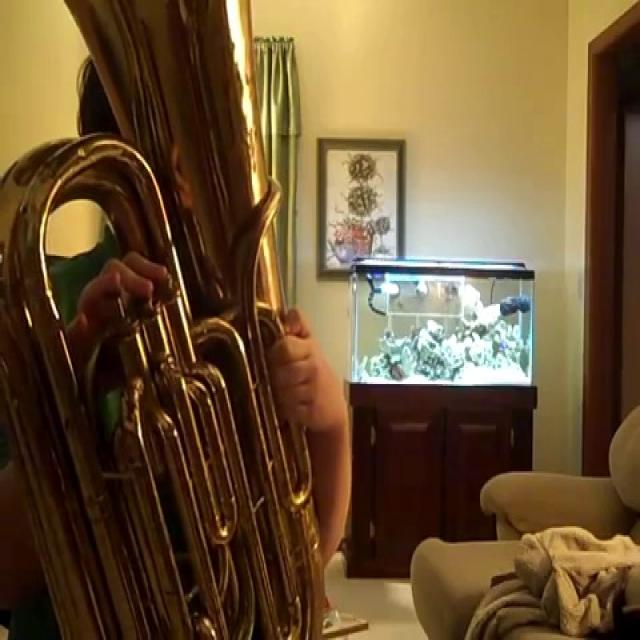Tuba: (0, 5, 296, 640)
